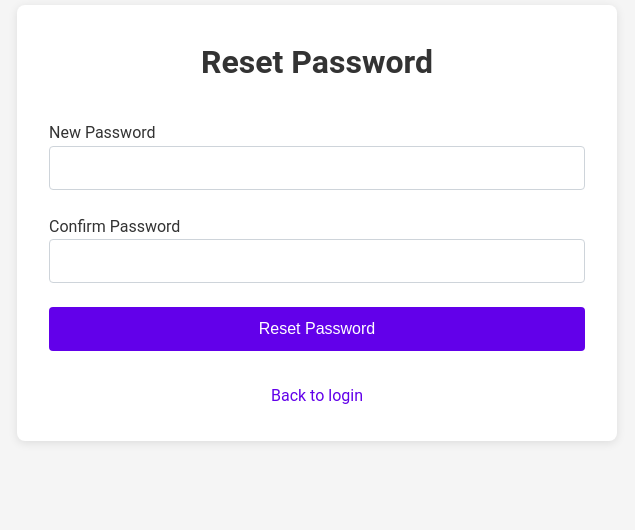
Test case: ResetPassword submit flow › shows an inline invalid/expired error on 400 instead of navigating
Type "newSecret1" into the password field labelled "New Password" at [317, 168], box [49,146,585,190]
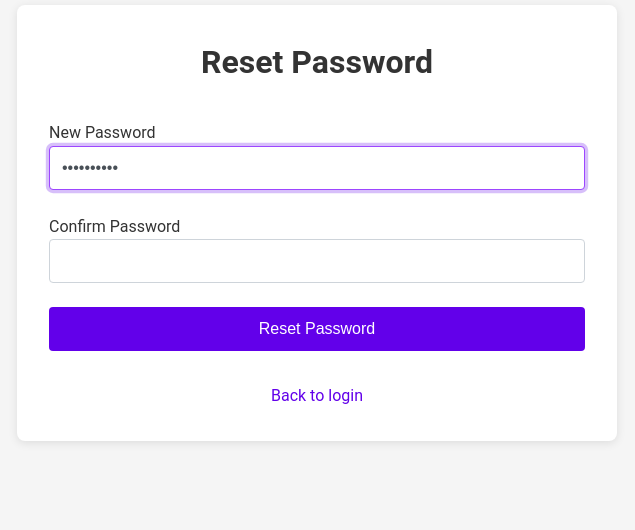
Type "newSecret1" into the password field labelled "Confirm Password" at [317, 261], box [49,239,585,283]
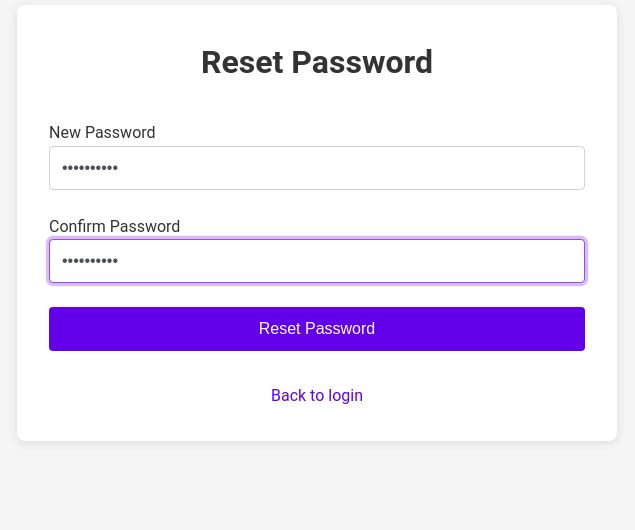
Click the button "Reset Password" at [317, 329], box [49,307,585,351]
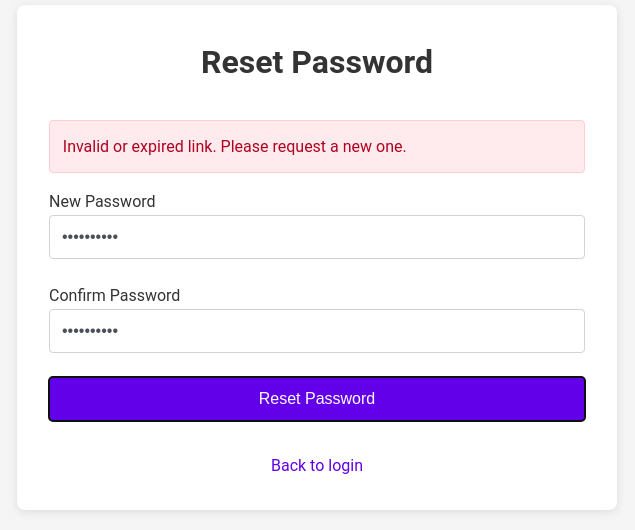
expect the text "Invalid or expired link. Please request a new one." is shown: met, box [49,120,585,173]
